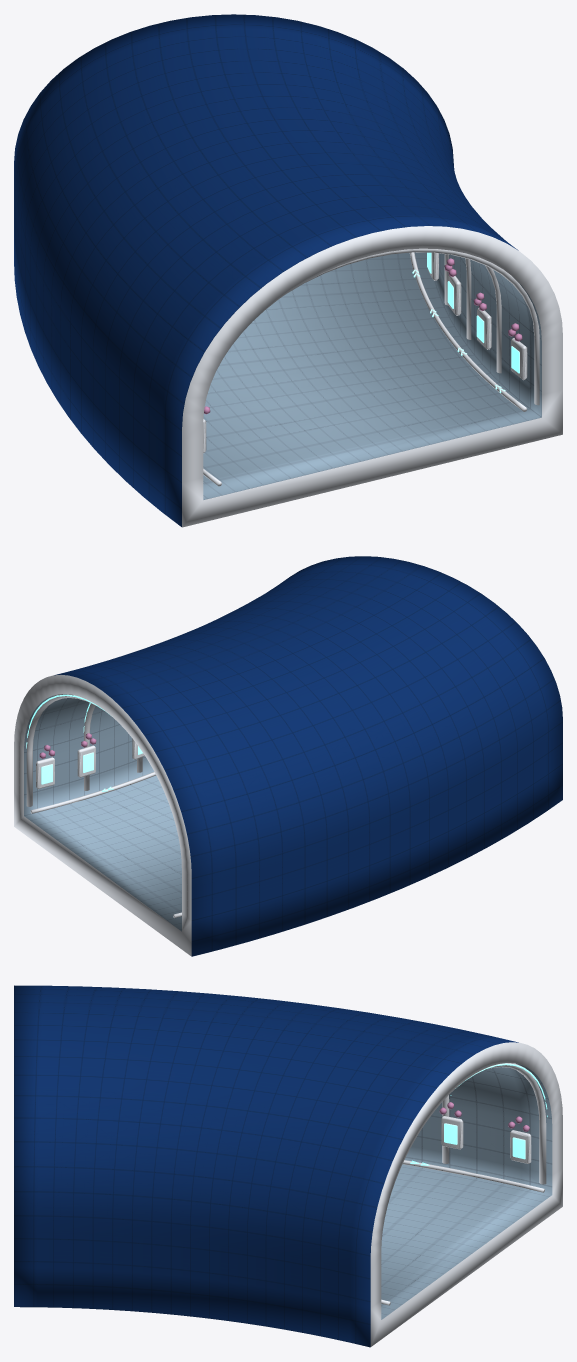
The model's file is curve_right_30_lod1.glb.
3 views of the same model, one above another, from view 1: azimuth 30°, elevation 25°; view 2: azimuth 150°, elevation 25°; view 3: azimuth 270°, elevation 25° (orthographic). The views are drawn at different scales.
Parts seen in each view (by area): view 1: TunnelGeometry.001; view 2: TunnelGeometry.001; view 3: TunnelGeometry.001.
Boxes of the visible parts, bbox=[...] form: TunnelGeometry.001: bbox=[14, 14, 562, 527]; TunnelGeometry.001: bbox=[14, 556, 562, 956]; TunnelGeometry.001: bbox=[14, 985, 562, 1347].
Size of the model in its own units: 19.1 by 9.52 by 21.83.
Materials: 5 (2 with a texture image).
